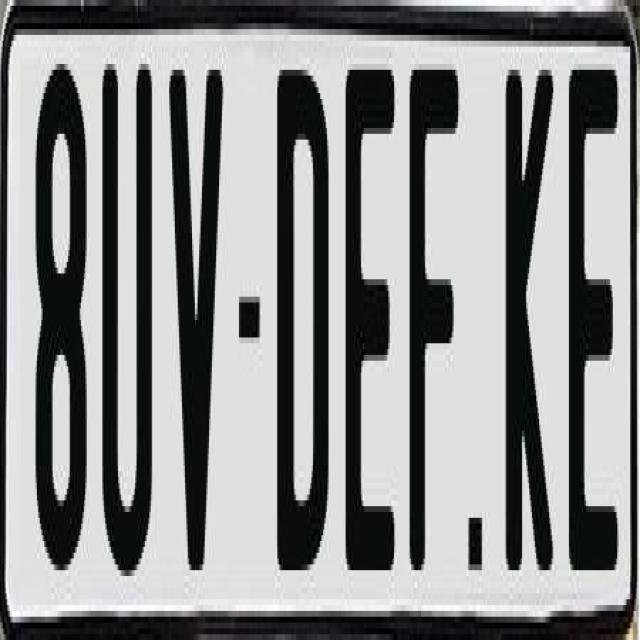8: (32, 58, 90, 599)
D: (273, 70, 324, 570)
E: (344, 70, 401, 594), (569, 70, 616, 582)
F: (406, 52, 459, 576)
K: (502, 70, 550, 594)
U: (98, 64, 157, 611)
V: (168, 63, 226, 600)
